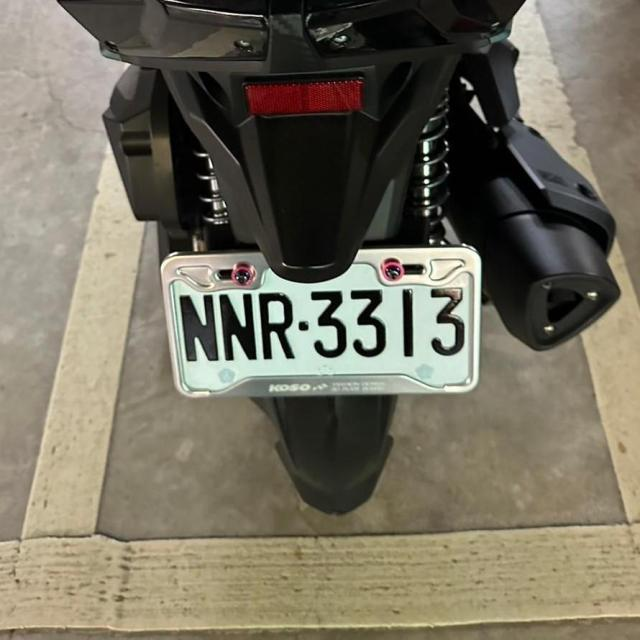W: (152, 235, 495, 411)
